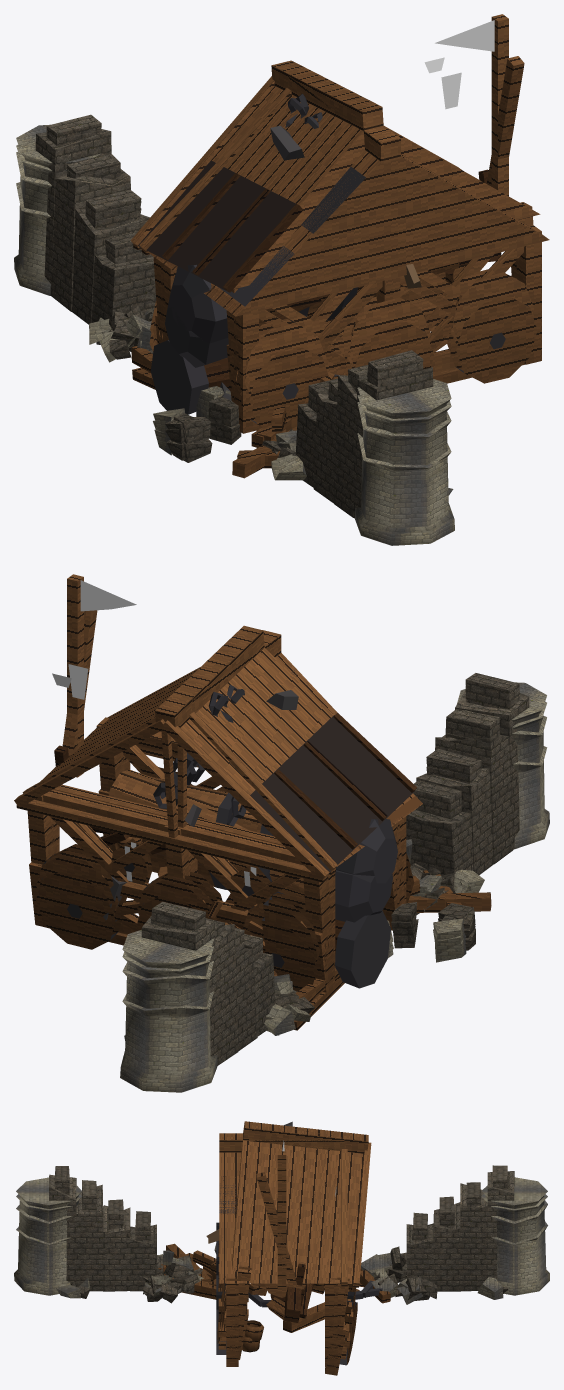
Rendered from ram.glb.
The picture shows the model from 3 angles, top to bottom: view 1: azimuth 30°, elevation 25°; view 2: azimuth 150°, elevation 25°; view 3: azimuth 270°, elevation 25°; orthographic projection. The views are drawn at different scales.
Parts seen in each view (by area): view 1: ram_s0, ram_s2, ram_s3, ram_s1, ram_debris; view 2: ram_s2, ram_s0, ram_s3, ram_s1, ram_debris; view 3: ram_s0, ram_s2, ram_s1, ram_s3, ram_debris.
Boxes of the visible parts, bbox=[...] form: ram_s0: bbox=[14, 14, 549, 545]; ram_s2: bbox=[16, 56, 540, 495]; ram_s3: bbox=[16, 169, 517, 517]; ram_s1: bbox=[16, 73, 461, 514]; ram_debris: bbox=[145, 125, 421, 400]; ram_s2: bbox=[14, 610, 546, 1035]; ram_s0: bbox=[22, 574, 549, 1092]; ram_s3: bbox=[29, 745, 547, 1040]; ram_s1: bbox=[69, 664, 546, 1051]; ram_debris: bbox=[103, 690, 412, 920]; ram_s0: bbox=[14, 1133, 549, 1366]; ram_s2: bbox=[16, 1121, 547, 1362]; ram_s1: bbox=[16, 1176, 547, 1300]; ram_s3: bbox=[16, 1221, 547, 1375]; ram_debris: bbox=[162, 1121, 402, 1321].
Size of the model in its own units: 10.21 by 8.8 by 18.43.
8 materials, 3 textured.
